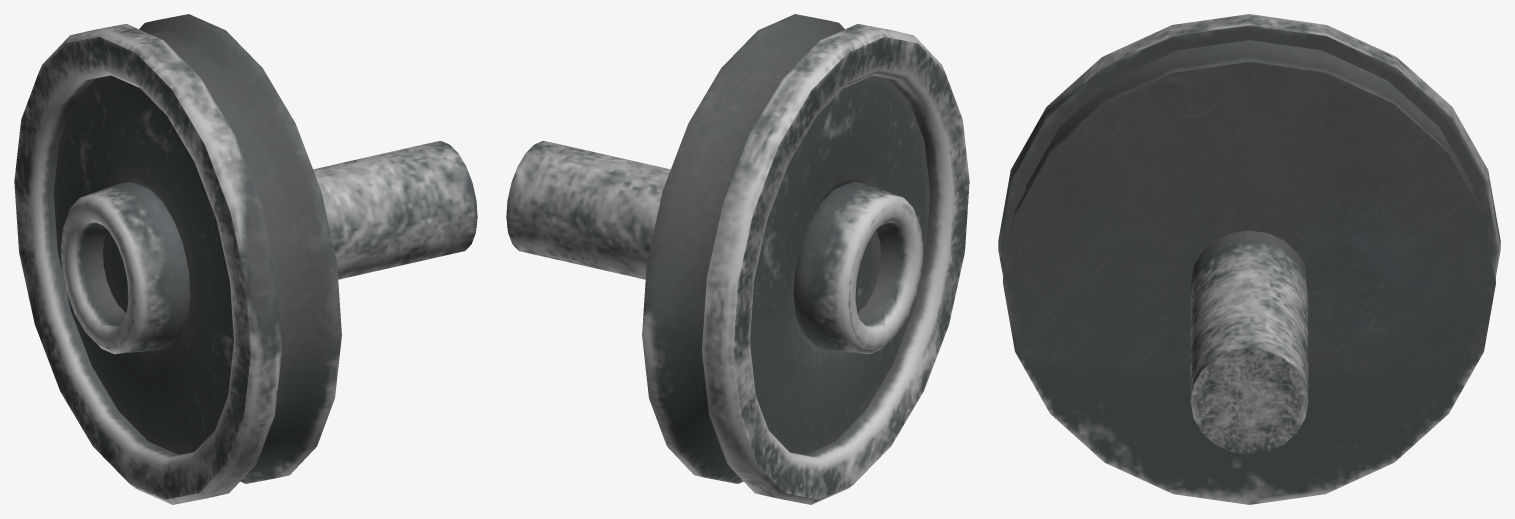
The model's file is SM_Wheel_01.FBX.
The picture shows the model from 3 angles, left to right: view 1: azimuth 30°, elevation 25°; view 2: azimuth 150°, elevation 25°; view 3: azimuth 270°, elevation 25°; orthographic projection. The views are drawn at different scales.
Parts seen in each view (by area): view 1: SM_Wheel_01; view 2: SM_Wheel_01; view 3: SM_Wheel_01.
Part boxes in pixels (<box>): SM_Wheel_01: <box>14,14,477,504</box>; SM_Wheel_01: <box>506,14,969,504</box>; SM_Wheel_01: <box>998,14,1500,504</box>.
Size of the model in its own units: 1.17 by 1.4 by 1.4.
Materials: 1 (1 with a texture image).
